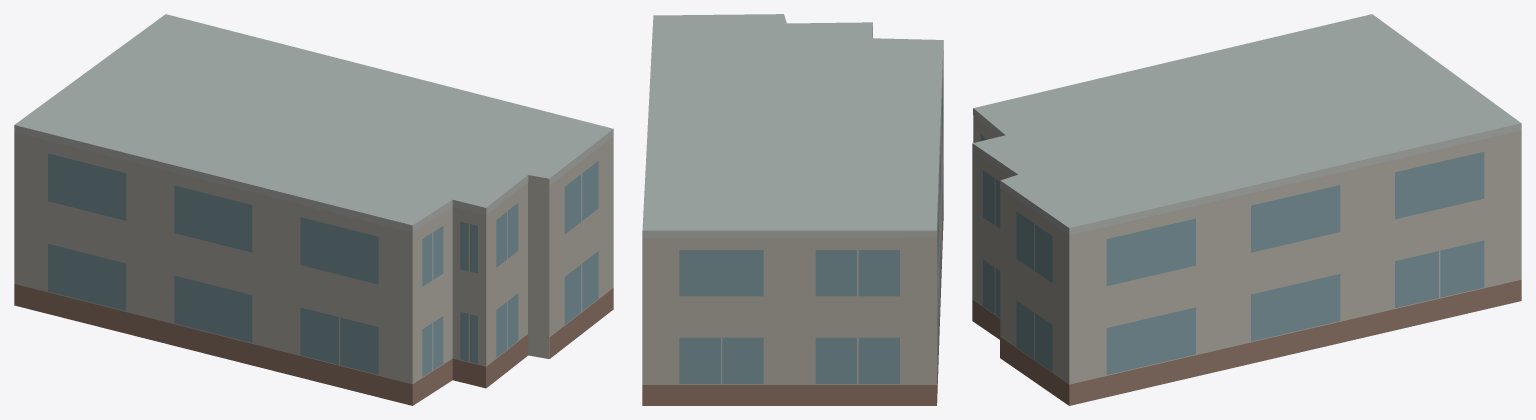
File: survey-upis-32913624.glb
The picture shows the model from 3 angles, left to right: view 1: azimuth 30°, elevation 25°; view 2: azimuth 150°, elevation 25°; view 3: azimuth 270°, elevation 25°; orthographic projection. The views are drawn at different scales.
Parts seen in each view (by area): view 1: survey-upis-32913624.tmp; view 2: survey-upis-32913624.tmp; view 3: survey-upis-32913624.tmp.
Part boxes in pixels (x1,y1,x2,y2): survey-upis-32913624.tmp: [14, 14, 613, 405]; survey-upis-32913624.tmp: [642, 14, 943, 405]; survey-upis-32913624.tmp: [972, 14, 1521, 405].
Size of the model in its own units: 15.77 by 6.1 by 17.09.
